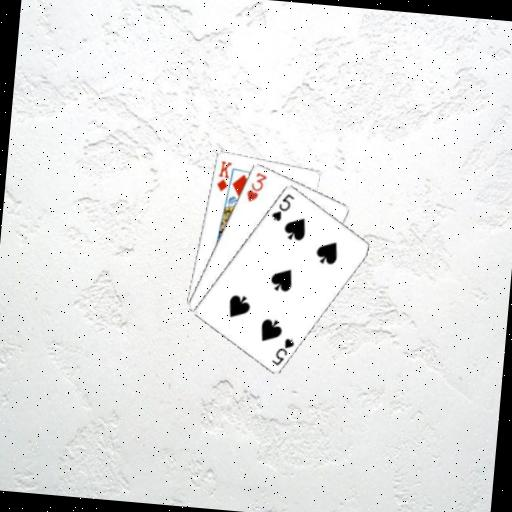3H: (243, 168, 269, 204)
5S: (268, 189, 296, 224), (268, 334, 296, 368)
KD: (213, 157, 234, 194)
